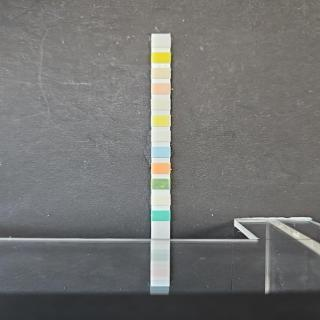mark: (152, 162, 170, 175), (152, 210, 170, 222), (152, 178, 170, 190), (152, 146, 170, 158), (152, 130, 170, 142), (152, 115, 170, 127), (152, 98, 170, 110), (152, 82, 170, 94), (152, 52, 170, 64), (152, 36, 170, 48), (152, 67, 169, 79), (152, 195, 169, 206)
